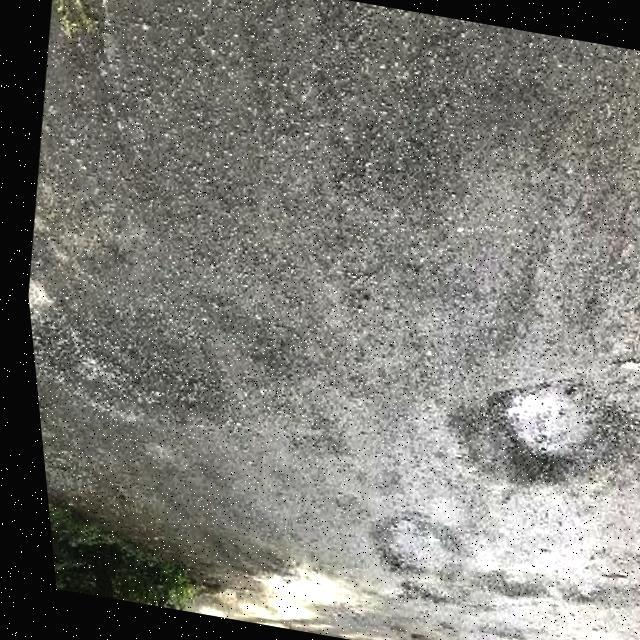pothole: (474, 367, 614, 480), (358, 510, 455, 585), (542, 562, 608, 618), (476, 566, 538, 607), (382, 575, 444, 612)
